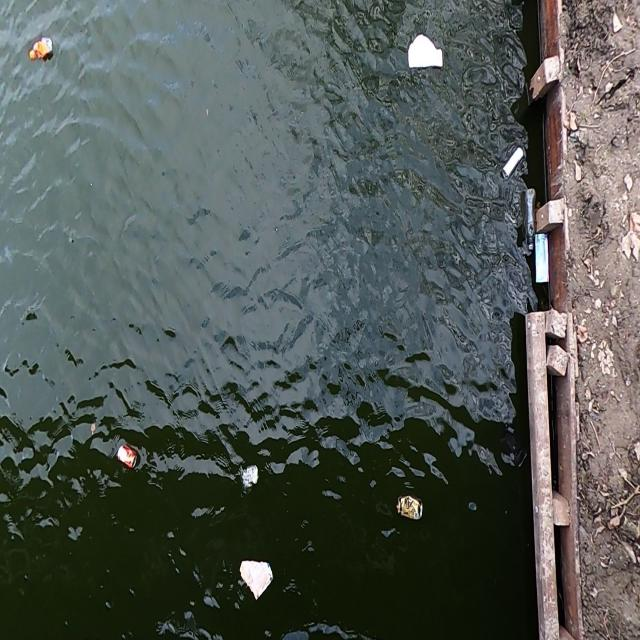Autre plastique: (402, 32, 447, 75)
Bouteille plastique: (523, 187, 537, 253)
Non plastique: (394, 493, 430, 528), (500, 142, 526, 183), (116, 443, 142, 475)
